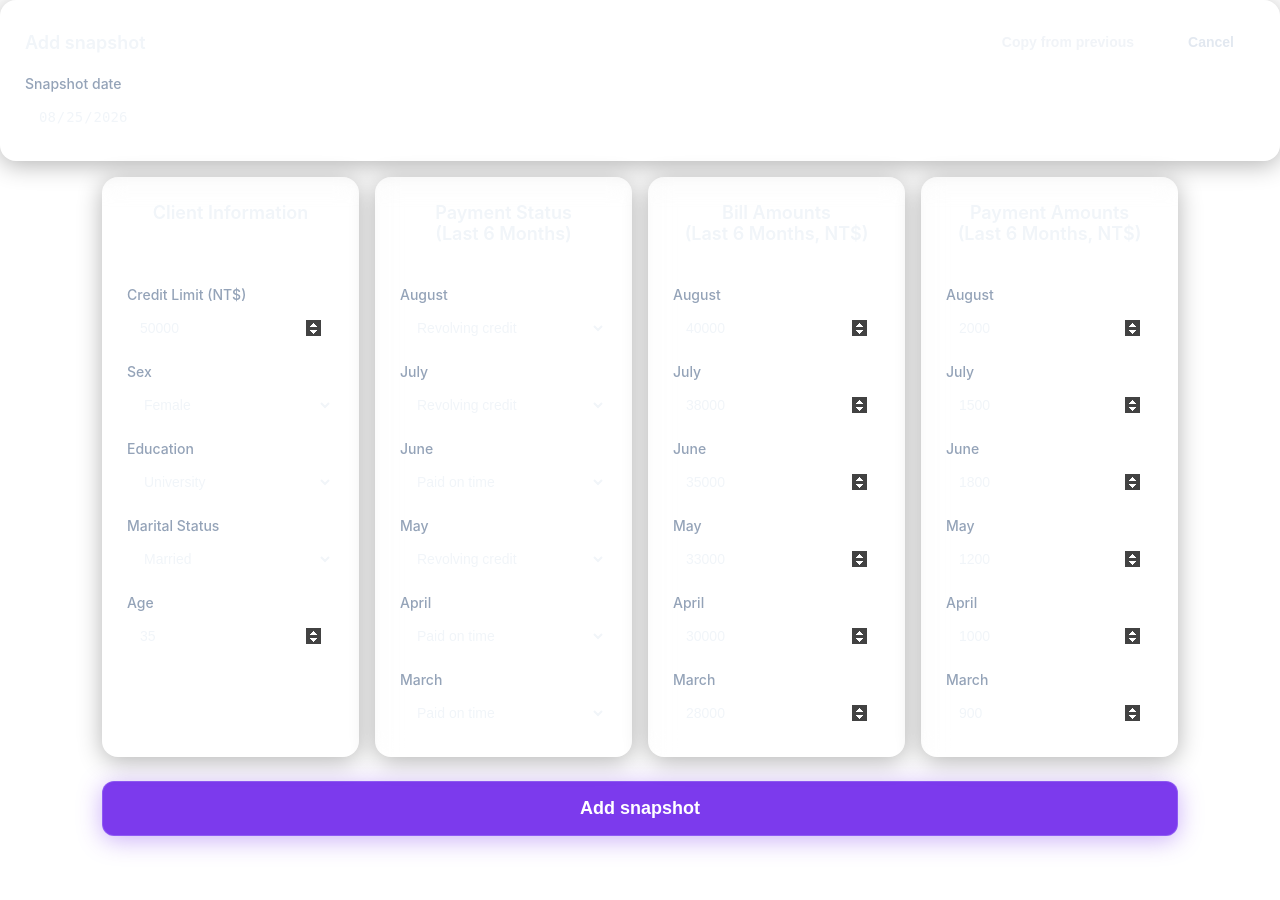
Test: SnapshotForm › shows a conflict message on 409
The image size is (1280, 900).
What coordinates should you click on to do the following:
click the button "Add snapshot"
I would click on:
 (640, 808)
Its box is [102, 781, 1178, 836].
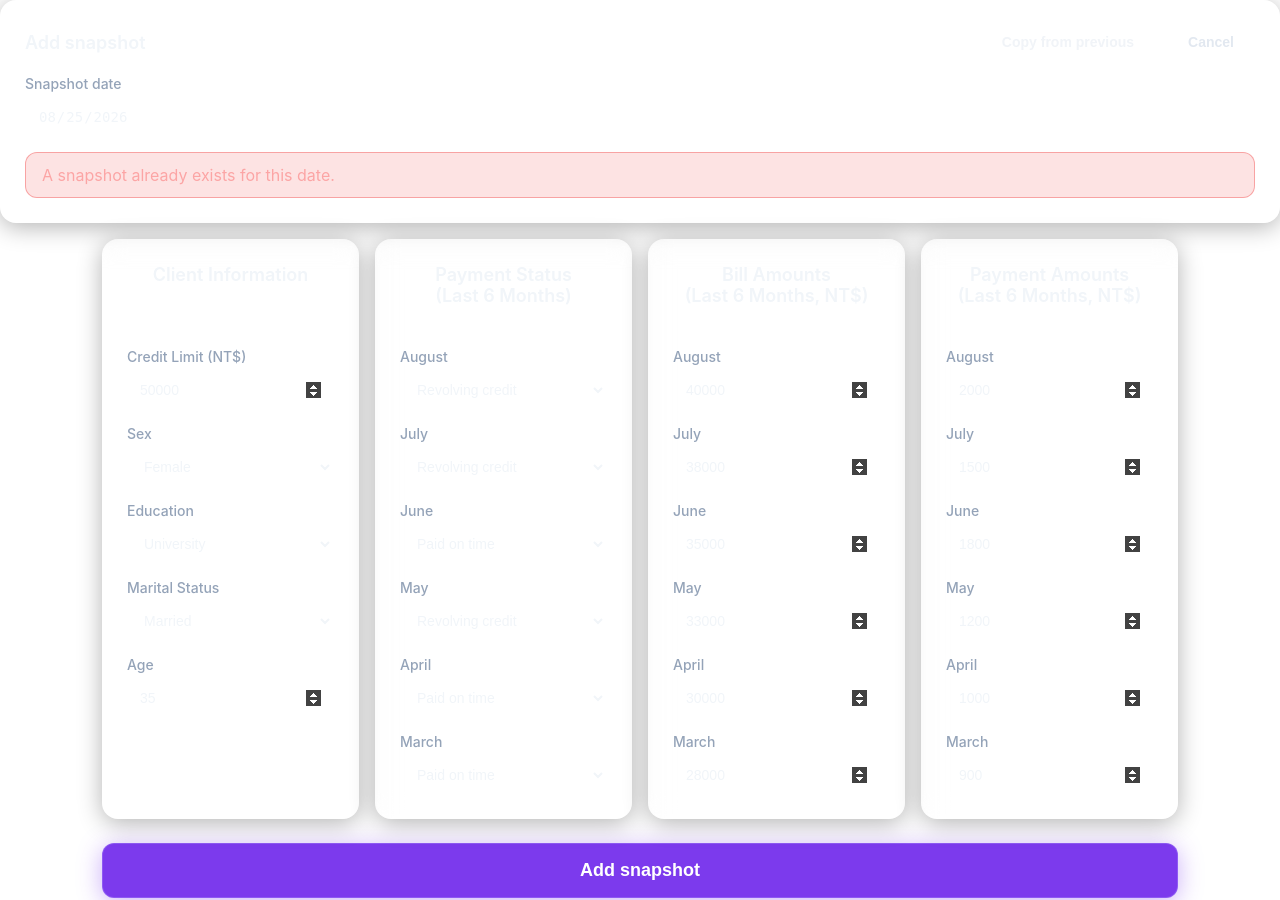
Expected: the text "A snapshot already exists for this date." is shown, [25, 152, 1255, 198]
